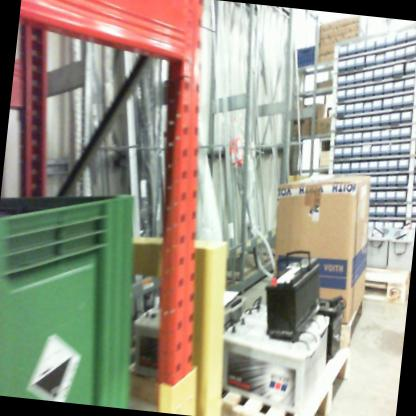pallet: (174, 331, 352, 416), (325, 287, 372, 362), (350, 258, 410, 306)
